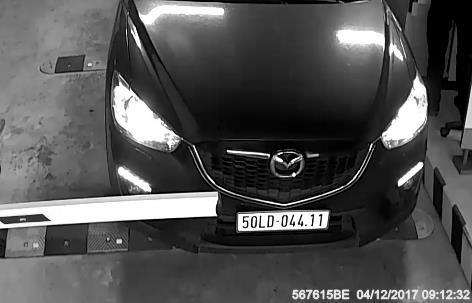License-plate: (233, 202, 334, 239)
